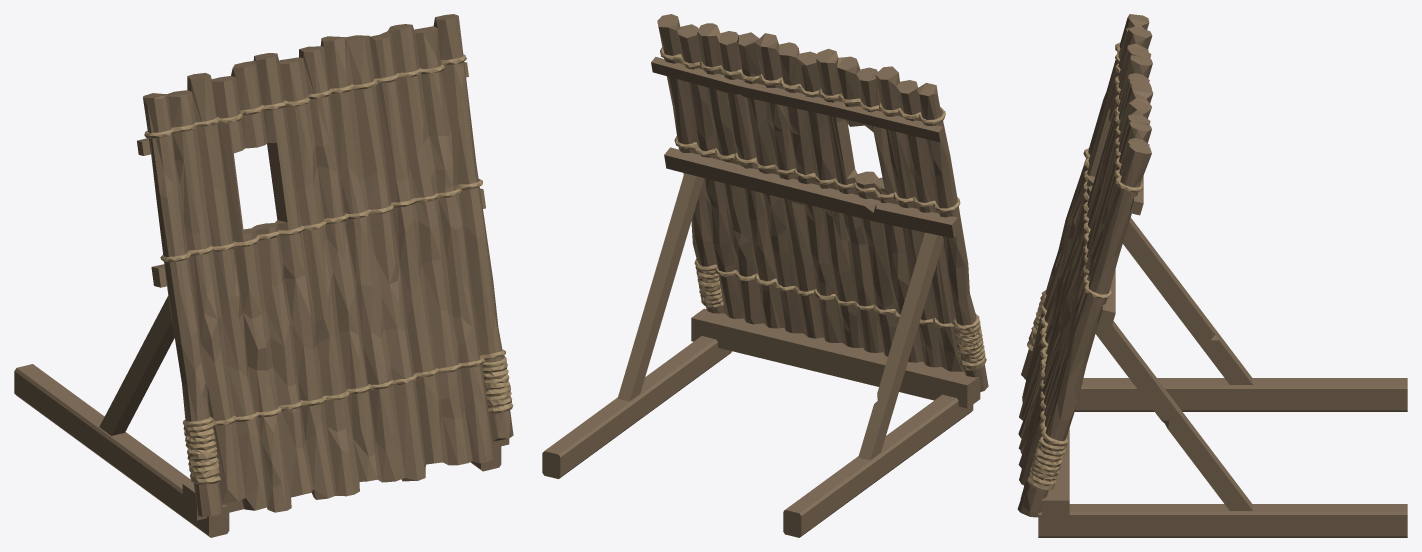
Rendered from siege_shield_a.FBX.
The picture shows the model from 3 angles, left to right: view 1: azimuth 30°, elevation 25°; view 2: azimuth 150°, elevation 25°; view 3: azimuth 270°, elevation 25°; orthographic projection. The views are drawn at different scales.
Visible parts, largest first — view 1: siege_shield_a; view 2: siege_shield_a; view 3: siege_shield_a.
Part boxes in pixels (left/top/right/bottom): siege_shield_a: left=14, top=14, right=513, bottom=537; siege_shield_a: left=542, top=14, right=988, bottom=537; siege_shield_a: left=1017, top=14, right=1407, bottom=537.
Size of the model in its own units: 1.84 by 2.27 by 2.01.
